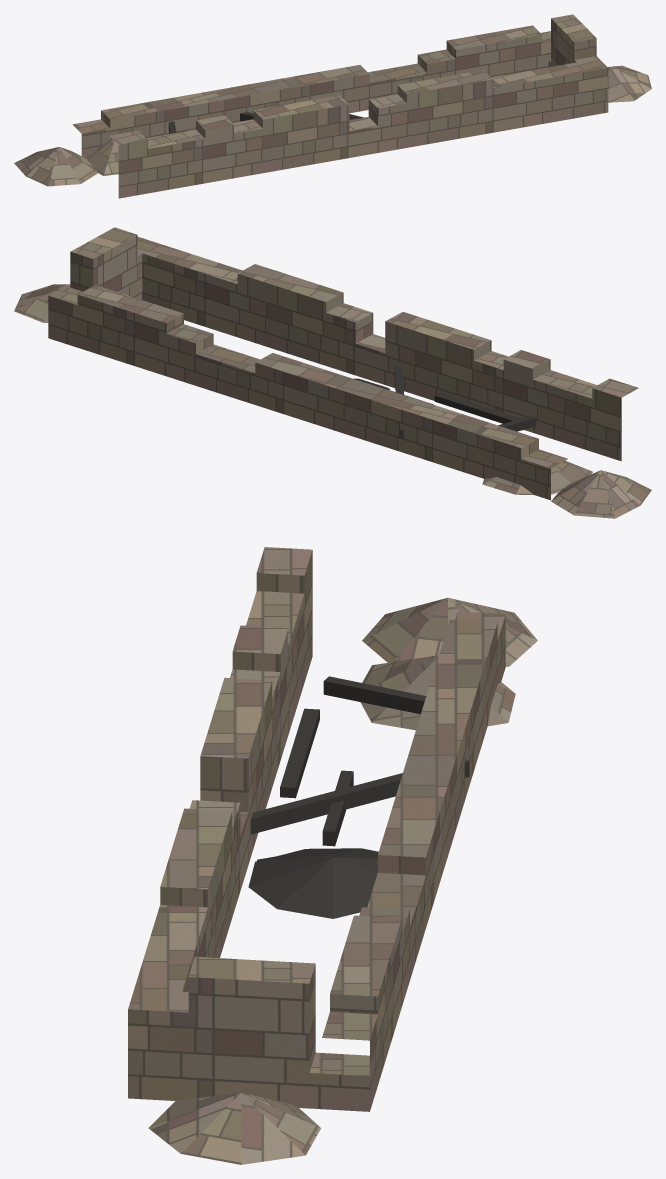
3 views of the same model, one above another, from view 1: azimuth 30°, elevation 25°; view 2: azimuth 150°, elevation 25°; view 3: azimuth 270°, elevation 25° (orthographic). The views are drawn at different scales.
Visible parts, largest first — view 1: b001085_ruin_wall; view 2: b001085_ruin_wall, b001085_ruin_char; view 3: b001085_ruin_wall, b001085_ruin_char.
Part boxes in pixels (bbox=[...]): b001085_ruin_wall: bbox=[14, 14, 651, 198]; b001085_ruin_wall: bbox=[14, 227, 651, 518]; b001085_ruin_char: bbox=[353, 365, 536, 438]; b001085_ruin_wall: bbox=[128, 547, 537, 1164]; b001085_ruin_char: bbox=[248, 676, 469, 918].
Size of the model in its own units: 16.74 by 1.75 by 5.21.
2 materials, 1 textured.
